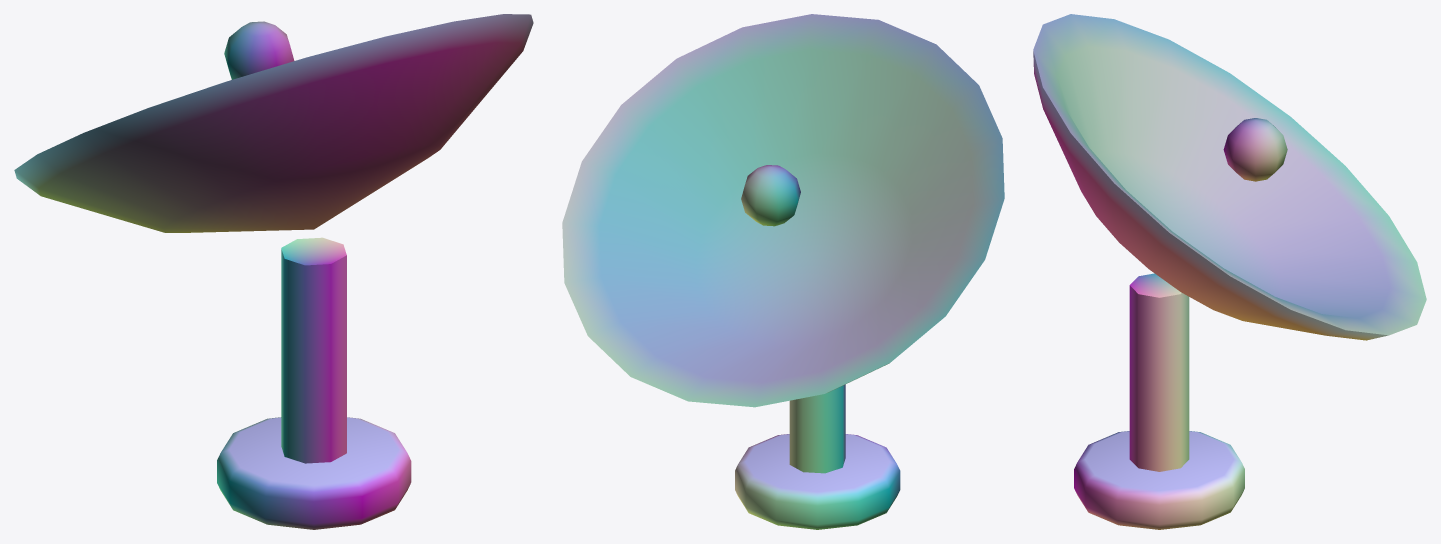
Rendered from att_radar.glb.
The picture shows the model from 3 angles, left to right: view 1: azimuth 30°, elevation 25°; view 2: azimuth 150°, elevation 25°; view 3: azimuth 270°, elevation 25°; orthographic projection. The views are drawn at different scales.
Parts seen in each view (by area): view 1: att_radar_mesh; view 2: att_radar_mesh; view 3: att_radar_mesh.
Boxes of the visible parts, box(x1,y1,x2,y2) form: att_radar_mesh: box(14, 14, 533, 529); att_radar_mesh: box(562, 14, 1004, 529); att_radar_mesh: box(1033, 14, 1426, 529).
Bounding box in the file's own units: 0.045 × 0.0463 × 0.0369.
